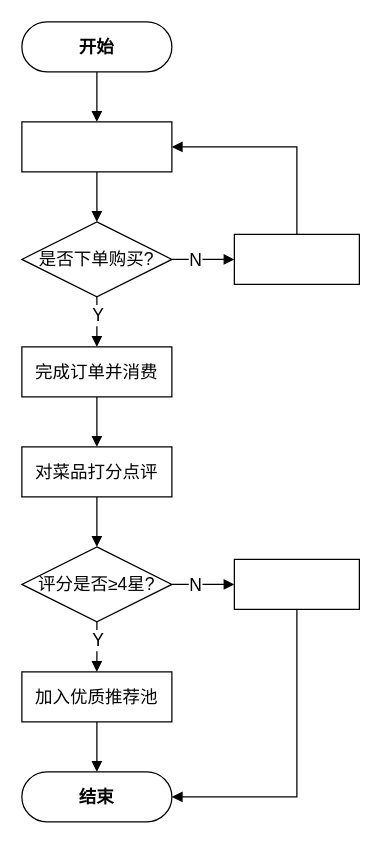
Some shapes in this 381 by 844 pixel diagram are drawn without their labels. Each missing label, with the centre of its shape:
常规展示记录: the point at 296,583
浏览推荐菜品: the point at 96,146
继续浏览: the point at 296,258
